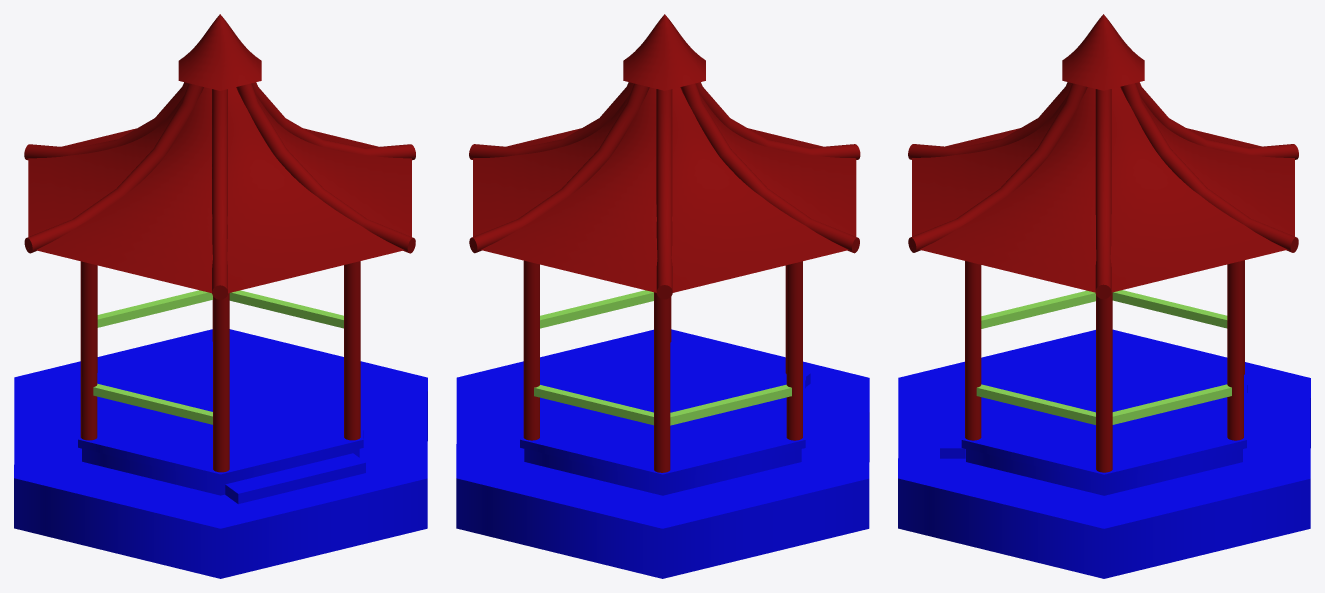
The model's file is pavillion.DAE.
3 renders of one model, left to right at view 1: azimuth 30°, elevation 25°; view 2: azimuth 150°, elevation 25°; view 3: azimuth 270°, elevation 25°, orthographic.
Parts seen in each view (by area): view 1: Tube003, Kegel001, Tube002, Kegel002, Zylinder011, Zylinder008, Zylinder010, Quader001, Zylinder002, Zylinder003, Zylinder001, Tube001 (+5 smaller); view 2: Tube003, Kegel001, Tube002, Kegel002, Tube001, Zylinder012, Zylinder007, Zylinder010, Zylinder006, Zylinder005, Zylinder002, Zylinder009 (+4 smaller); view 3: Tube003, Kegel001, Tube002, Kegel002, Tube001, Zylinder009, Zylinder008, Zylinder007, Zylinder005, Zylinder004, Zylinder003, Zylinder012 (+6 smaller).
Part boxes in pixels (left/top/right/bottom): Tube003: left=14, top=329, right=427, bottom=578; Kegel001: left=28, top=87, right=411, bottom=293; Tube002: left=78, top=337, right=363, bottom=482; Kegel002: left=178, top=14, right=261, bottom=90; Zylinder011: left=212, top=89, right=227, bottom=299; Zylinder008: left=236, top=83, right=415, bottom=253; Zylinder010: left=24, top=83, right=203, bottom=253; Quader001: left=225, top=453, right=365, bottom=503; Zylinder002: left=80, top=261, right=97, bottom=440; Zylinder003: left=344, top=261, right=360, bottom=440; Zylinder001: left=213, top=293, right=229, bottom=472; Tube001: left=82, top=448, right=359, bottom=495; Tube003: left=456, top=329, right=869, bottom=578; Kegel001: left=473, top=87, right=856, bottom=292; Tube002: left=520, top=337, right=805, bottom=482; Kegel002: left=623, top=14, right=705, bottom=90; Tube001: left=524, top=449, right=801, bottom=495; Zylinder012: left=656, top=89, right=672, bottom=299; Zylinder007: left=469, top=83, right=649, bottom=253; Zylinder010: left=680, top=83, right=859, bottom=253; Zylinder006: left=654, top=292, right=670, bottom=472; Zylinder005: left=523, top=260, right=539, bottom=440; Zylinder002: left=786, top=261, right=802, bottom=440; Zylinder009: left=469, top=82, right=633, bottom=159; Tube003: left=898, top=329, right=1310, bottom=578; Kegel001: left=912, top=87, right=1294, bottom=292; Tube002: left=961, top=337, right=1247, bottom=482; Kegel002: left=1062, top=14, right=1144, bottom=90; Tube001: left=966, top=449, right=1242, bottom=495; Zylinder009: left=1095, top=89, right=1111, bottom=299; Zylinder008: left=908, top=83, right=1087, bottom=252; Zylinder007: left=1120, top=83, right=1298, bottom=252; Zylinder005: left=1227, top=260, right=1243, bottom=440; Zylinder004: left=1096, top=292, right=1112, bottom=472; Zylinder003: left=965, top=261, right=981, bottom=440; Zylinder012: left=1135, top=82, right=1298, bottom=159.
Size of the model in its own units: 129 by 112 by 139.
